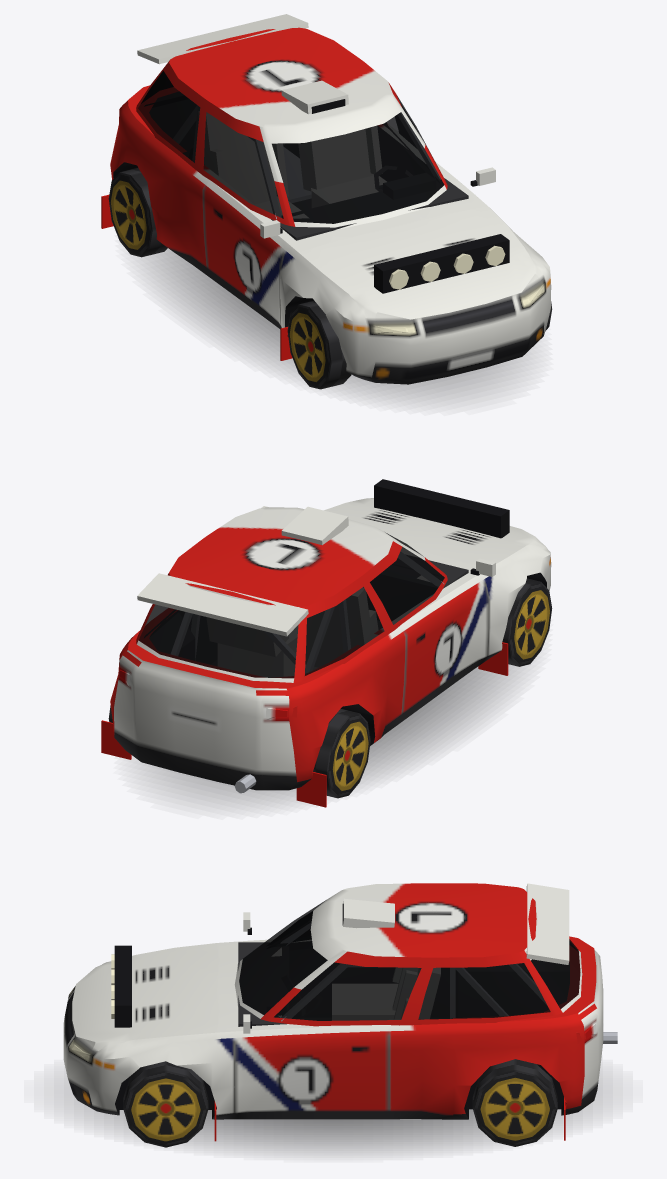
The model's file is faisca.glb.
The picture shows the model from 3 angles, top to bottom: view 1: azimuth 30°, elevation 25°; view 2: azimuth 150°, elevation 25°; view 3: azimuth 270°, elevation 25°; orthographic projection. The views are drawn at different scales.
Visible parts, largest first — view 1: Carroceria, Interior, Capo_malha, Porta_D_malha, Sombra, Roda_DD, Roda_TD, Tampa_malha, Porta_E_malha; view 2: Carroceria, Tampa_malha, Interior, Porta_D_malha, Capo_malha, Sombra, Roda_TD, Roda_DD; view 3: Carroceria, Porta_E_malha, Interior, Capo_malha, Sombra, Tampa_malha, Roda_TE, Roda_DE, Porta_D_malha.
Boxes of the visible parts, <box> form: Carroceria: <box>101,27,551,384</box>; Interior: <box>145,92,468,240</box>; Capo_malha: <box>304,207,543,320</box>; Porta_D_malha: <box>203,114,289,325</box>; Sombra: <box>144,248,527,401</box>; Roda_DD: <box>287,300,351,389</box>; Roda_TD: <box>108,168,167,257</box>; Tampa_malha: <box>137,14,308,102</box>; Porta_E_malha: <box>388,82,495,186</box>; Carroceria: <box>101,502,551,807</box>; Tampa_malha: <box>132,573,308,770</box>; Interior: <box>144,552,468,677</box>; Porta_D_malha: <box>382,540,495,712</box>; Capo_malha: <box>328,479,542,565</box>; Sombra: <box>143,665,521,805</box>; Roda_TD: <box>313,708,370,798</box>; Roda_DD: <box>502,578,552,666</box>; Carroceria: <box>63,883,617,1141</box>; Porta_E_malha: <box>235,950,388,1112</box>; Interior: <box>238,920,569,1026</box>; Capo_malha: <box>78,945,218,1050</box>; Sombra: <box>64,1078,602,1153</box>; Tampa_malha: <box>524,883,603,1081</box>; Roda_TE: <box>472,1059,557,1146</box>; Roda_DE: <box>123,1061,208,1147</box>; Porta_D_malha: <box>243,911,312,945</box>.
Size of the model in its own units: 2.44 by 1.45 by 4.5.
Materials: 14 (5 with a texture image).
